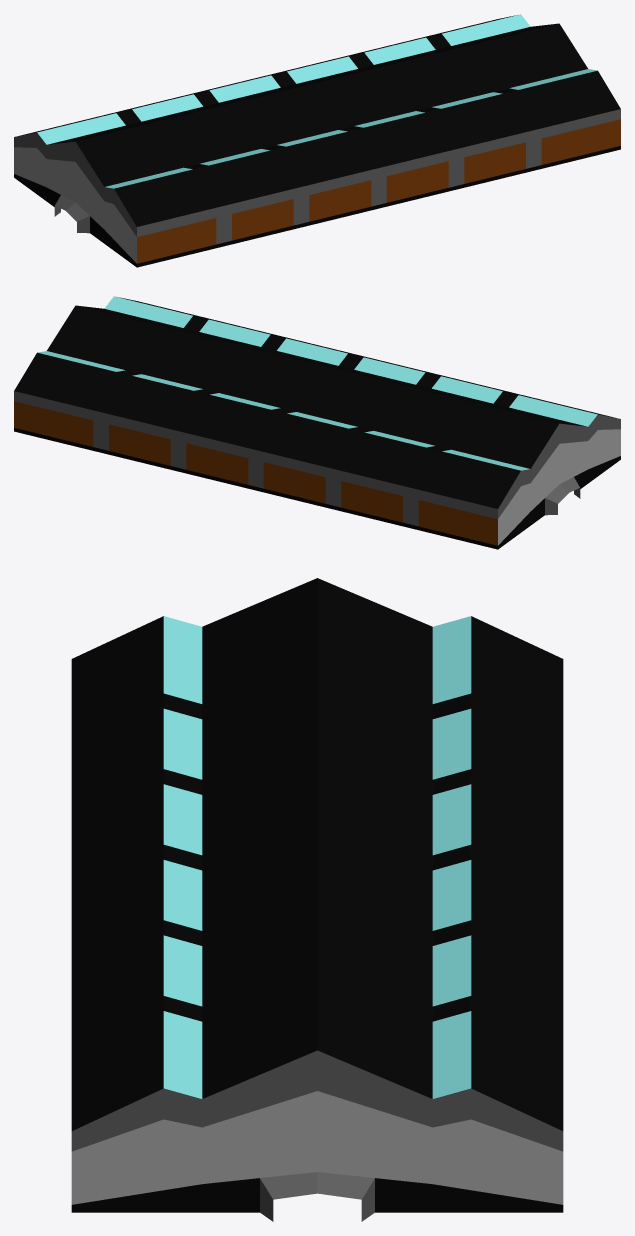
File: BigTraining_Stadium.fbx
3 renders of one model, top to bottom at view 1: azimuth 30°, elevation 25°; view 2: azimuth 150°, elevation 25°; view 3: azimuth 270°, elevation 25°, orthographic. The views are drawn at different scales.
Parts seen in each view (by area): view 1: Stadium; view 2: Stadium; view 3: Stadium.
Part boxes in pixels (x1,y1,x2,y2): Stadium: (14,14,620,267); Stadium: (14,296,620,549); Stadium: (71,578,563,1221).
Size of the model in its own units: 26000 by 4000 by 11000.
